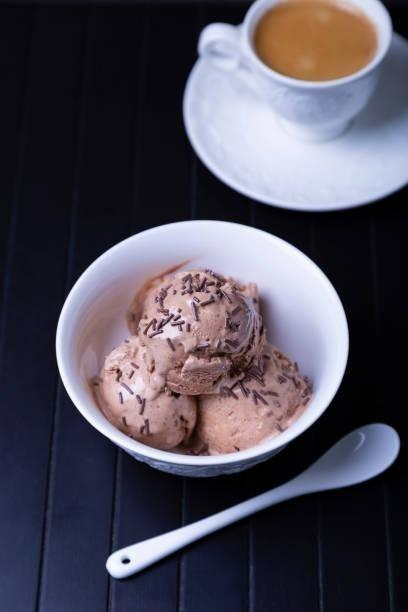cup-handle: (197, 0, 393, 144)
